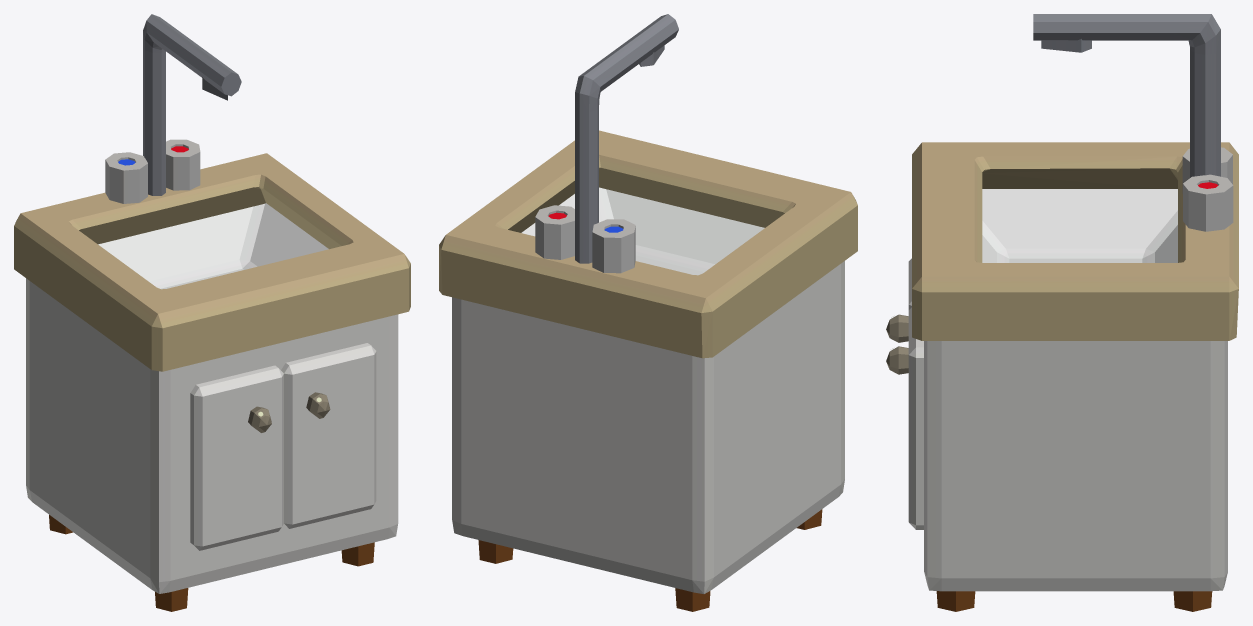
File: kitchen_watertap.fbx
3 renders of one model, left to right at view 1: azimuth 30°, elevation 25°; view 2: azimuth 150°, elevation 25°; view 3: azimuth 270°, elevation 25°, orthographic. The views are drawn at different scales.
Visible parts, largest first — view 1: watertap; view 2: watertap; view 3: watertap.
Part boxes in pixels (x1=…): watertap: x1=14, y1=14, x2=410, y2=611; watertap: x1=439, y1=14, x2=857, y2=611; watertap: x1=886, y1=14, x2=1238, y2=611.
Size of the model in its own units: 0.9238 by 1.65 by 0.9747.
